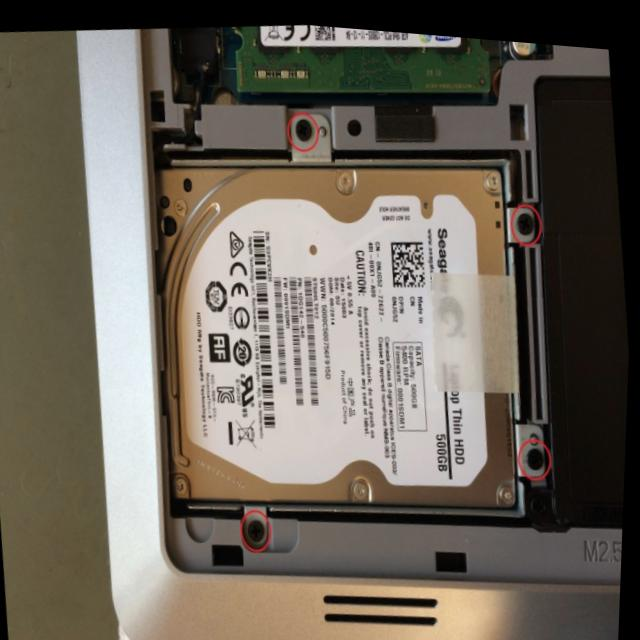datamatrix: (391, 232, 430, 284), (314, 21, 332, 37)
